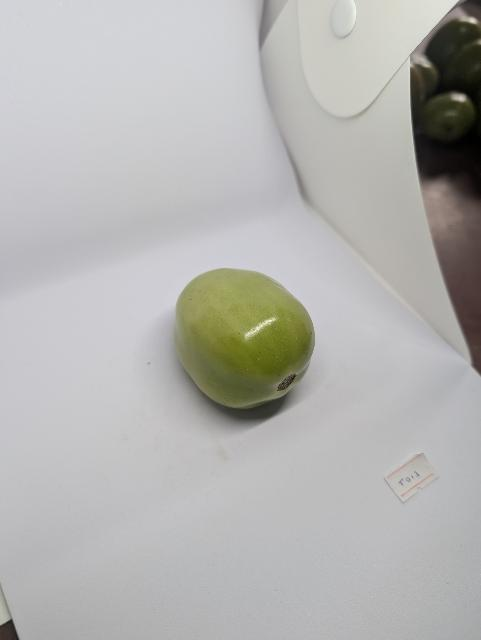green: (173, 268, 320, 412)
